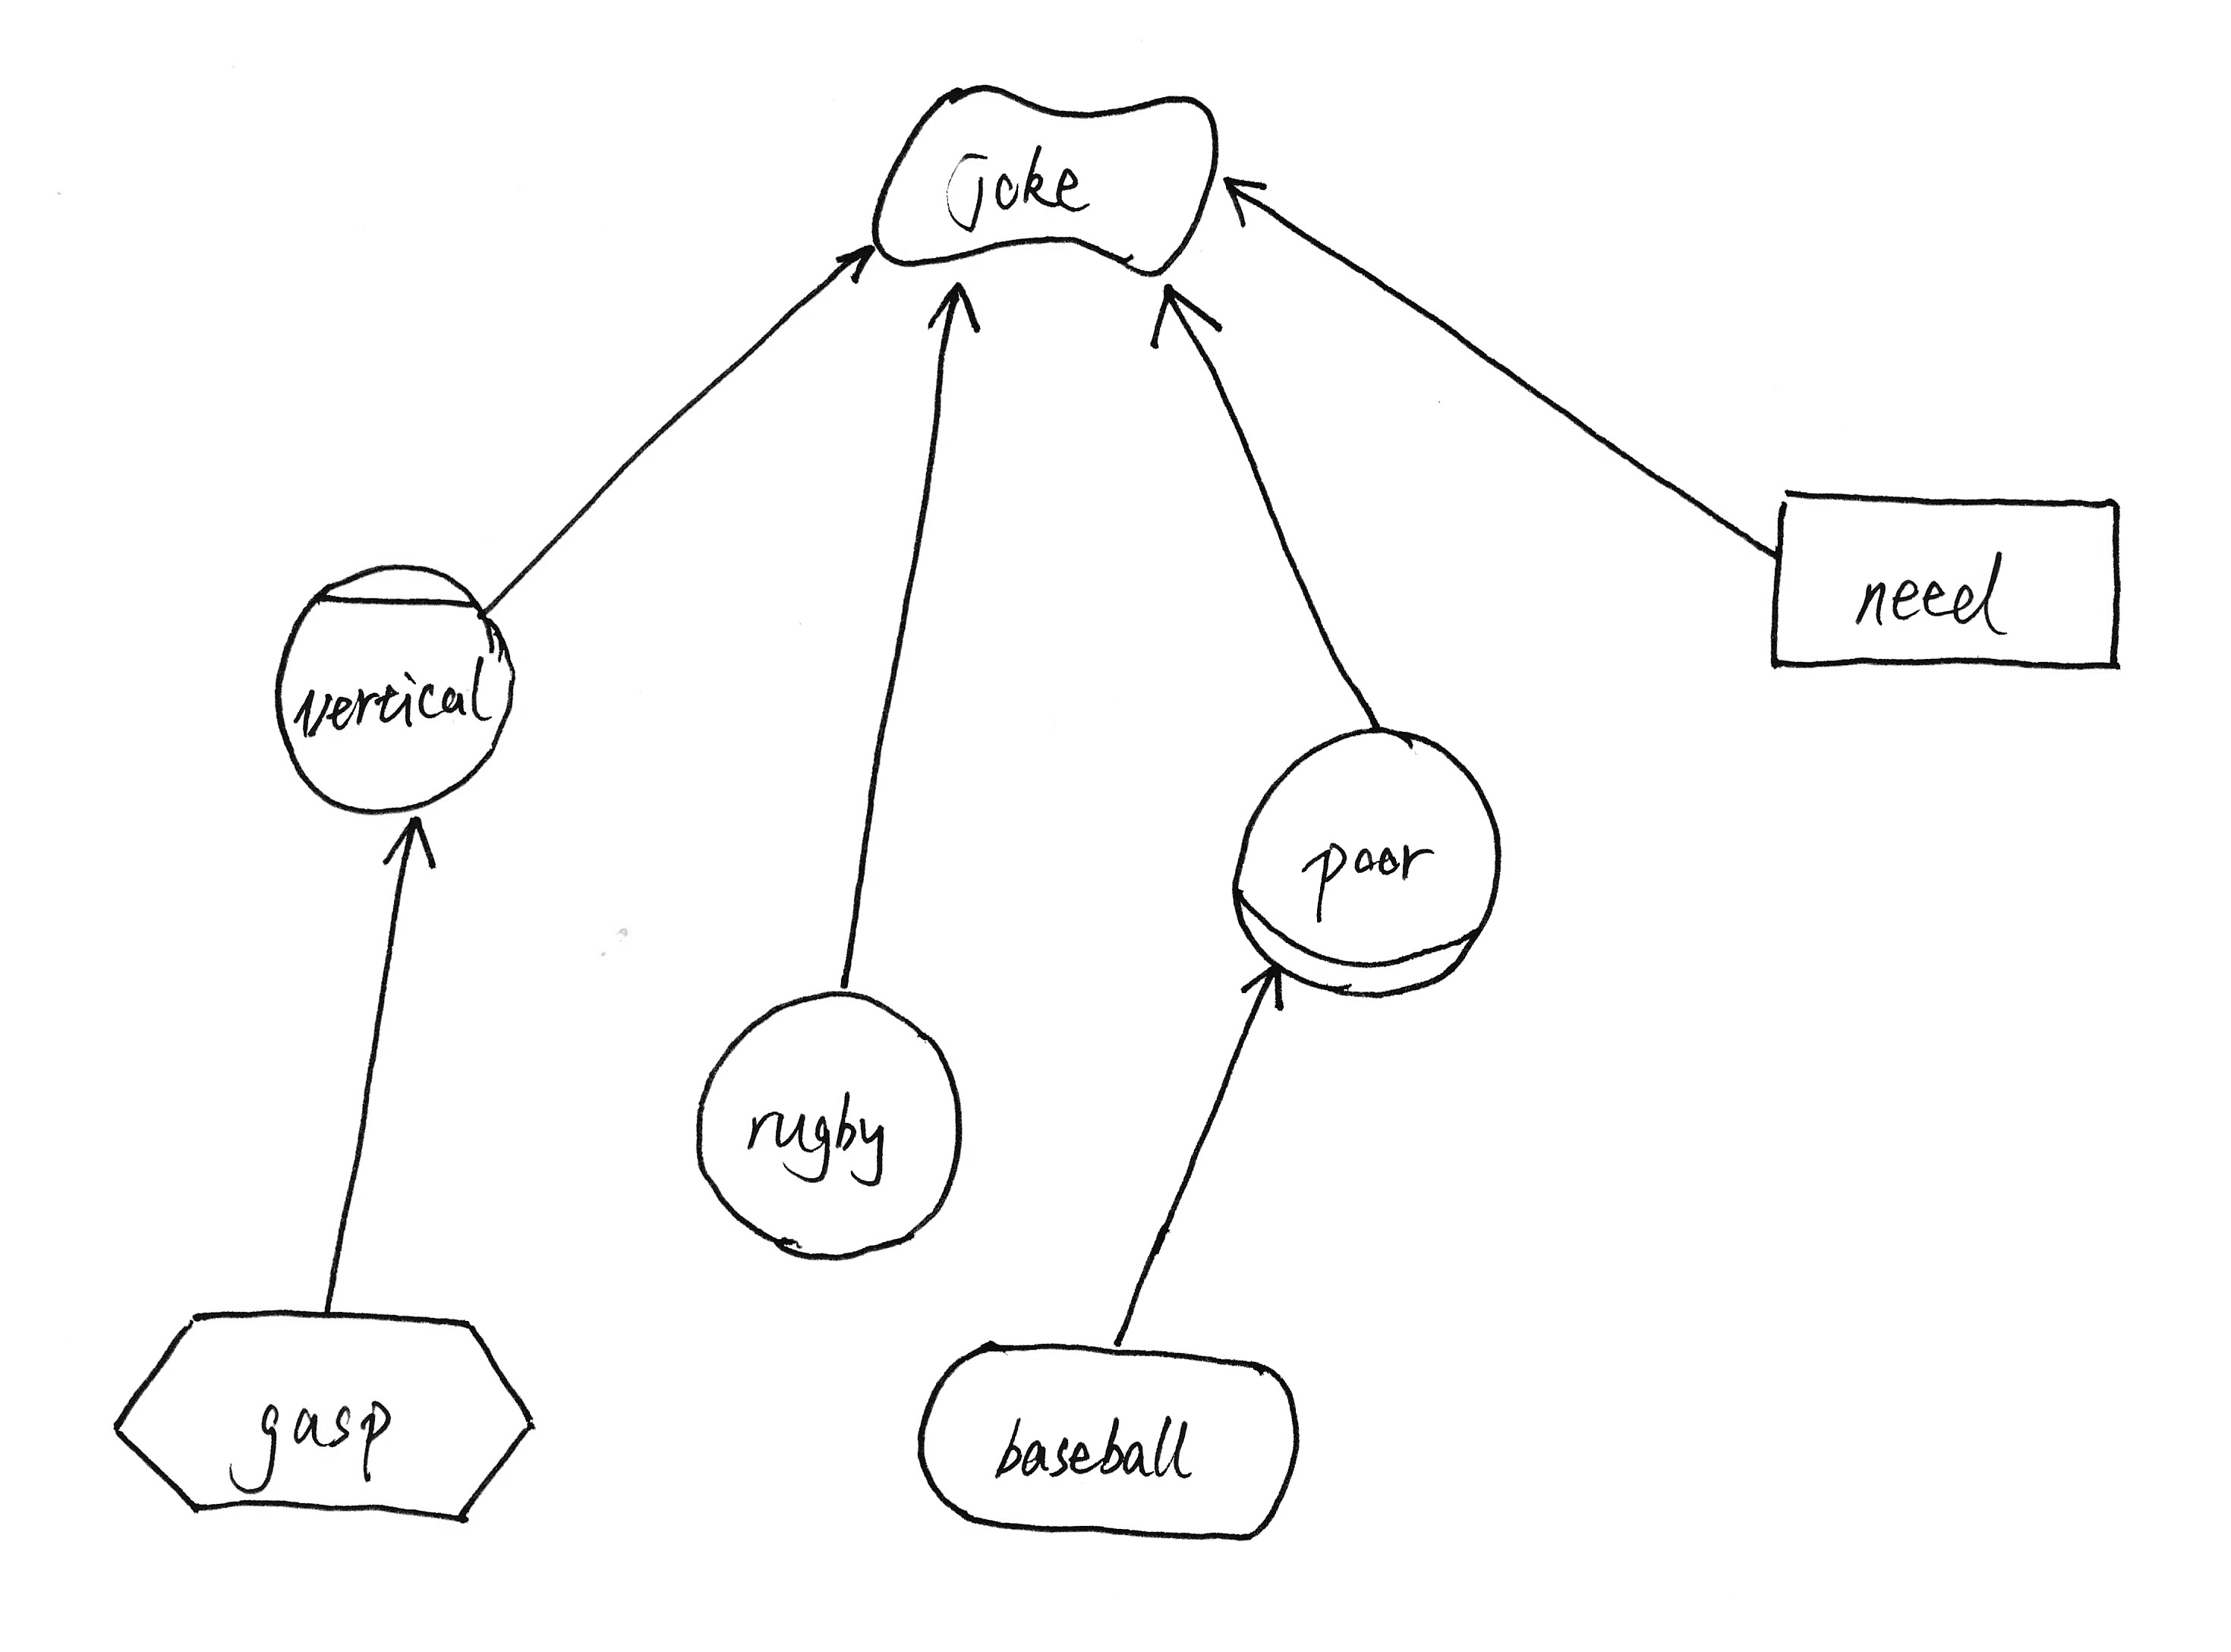actor: (677, 975, 980, 1272)
agent: (260, 543, 536, 828)
arrow: (1136, 267, 1244, 371), (918, 269, 992, 356), (373, 807, 458, 880), (1221, 960, 1303, 1026), (810, 233, 883, 298), (1214, 163, 1273, 243)
goal: (892, 1321, 1310, 1555)
quality: (857, 64, 1232, 298)
resource: (1744, 472, 2139, 689)
role: (1216, 710, 1518, 1008)
task: (97, 1295, 550, 1562)
